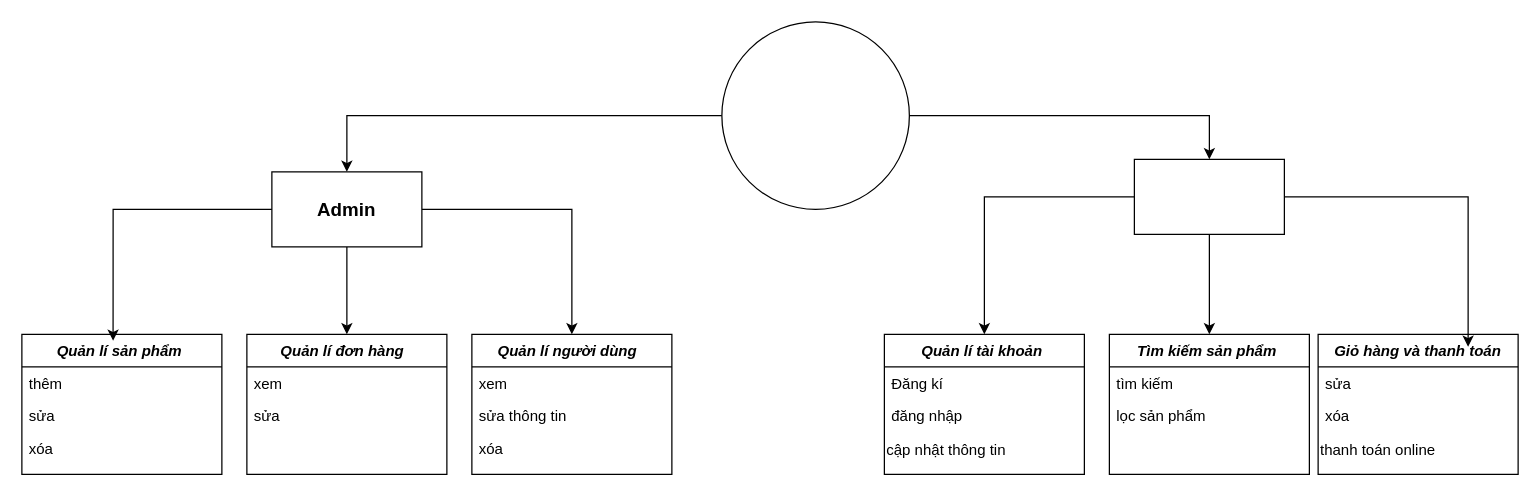
This 1540x496 diagram has some shape labels left out. Each missing label, with the centre of its shape:
Hệ thống quản lí và bán giày: the point at 815,115
user: the point at 1208,196
